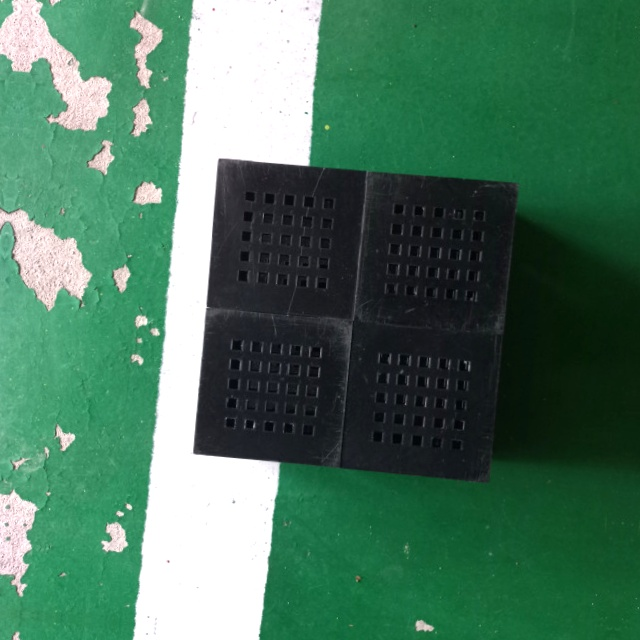pallet: (183, 151, 524, 493)
